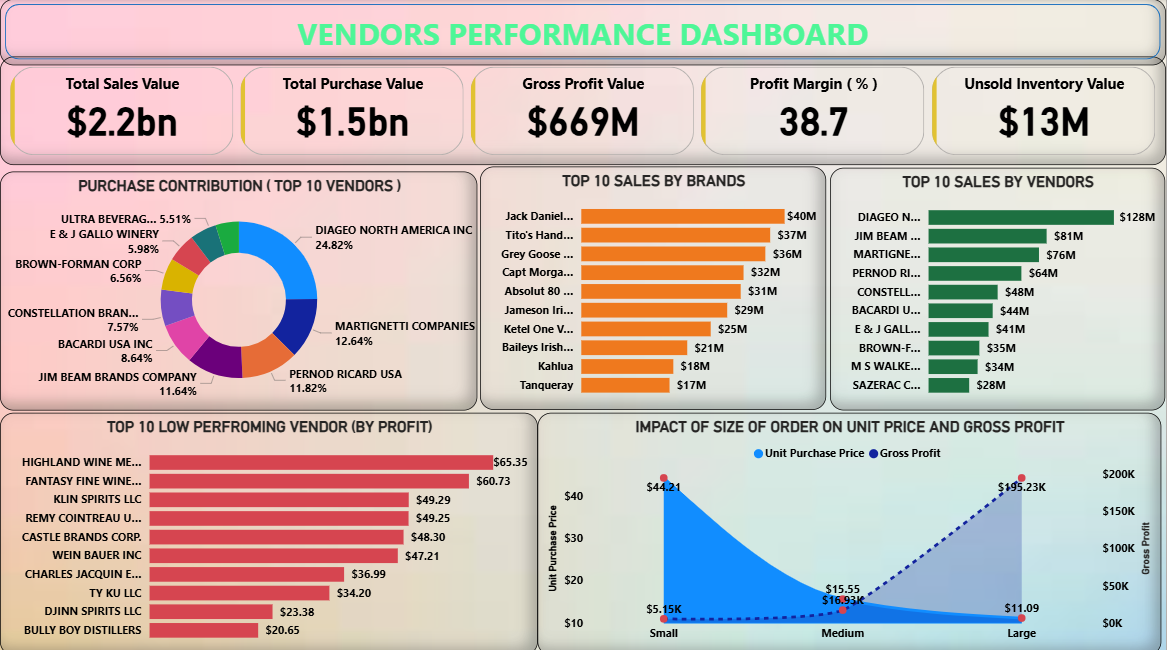

The page's visual inventory and layout, read from the dashboard file:
{"tool":"powerbi","page":{"name":"Page 1","canvas":[1280,720],"ordinal":0},"visuals":[{"type":"cardVisual","fields":{"Data":["Sum(vendors_sales_summary.TotalSalesDollars)","Sum(vendors_sales_summary.TotalPurchaseDollars)","Sum(vendors_sales_summary.GrossProfit)","Avg(vendors_sales_summary.ProfitMargin)","Sum(vendors_sales_summary.UnsoldInventoryValue)"]},"box":[0,63.1,1280.3,119.4],"z":0},{"type":"donutChart","title":"PURCHASE CONTRIBUTION  ( TOP 10 VENDORS )","fields":{"Y":["Sum(PurchaseContribution.PurchaseContribution)"],"Category":["PurchaseContribution.VendorName"]},"box":[0,182.5,524.2,269],"z":1000},{"type":"barChart","title":"TOP 10 LOW PERFROMING VENDOR (BY PROFIT)","fields":{"Category":["Low_Performing_Vendors.VendorName"],"Y":["Sum(Low_Performing_Vendors.ProfitMargin)"]},"box":[0,454.2,590.1,266.2],"z":2000},{"type":"barChart","title":"TOP 10 SALES BY VENDORS","fields":{"Category":["vendors_sales_summary.VendorName"],"Y":["Sum(vendors_sales_summary.TotalSalesPrice)"]},"box":[911.2,185.2,367.8,266.2],"z":3000},{"type":"barChart","title":"TOP 10 SALES BY BRANDS","fields":{"Category":["Top_Brands.Description"],"Y":["Sum(vendors_sales_summary.TotalSalesDollars)"]},"box":[526.9,183.9,380.1,267.6],"z":4000},{"type":"shape","box":[0,0,1280.3,63.1],"z":5000},{"type":"lineChart","title":"IMPACT OF SIZE OF ORDER ON UNIT PRICE AND GROSS PROFIT","fields":{"Category":["vendors_sales_summary.OrderSize"],"Y2":["Avg(vendors_sales_summary.GrossProfit)"],"Y":["Avg(vendors_sales_summary.UnitPurchasePrice)"]},"box":[590.1,454.2,684.7,266.2],"z":6000}]}

Visuals, with their boxes in screenshot pixels (x1, y1, x2, y2), scaled from the page's 1280x720 canvas onto the 1167x650 screenshot:
cardVisual - Sum(vendors_sales_summary.TotalSalesDollars) x Sum(vendors_sales_summary.TotalPurchaseDollars): <bbox>0, 57, 1166, 165</bbox>
"PURCHASE CONTRIBUTION  ( TOP 10 VENDORS )" donutChart: <bbox>0, 165, 478, 408</bbox>
"TOP 10 LOW PERFROMING VENDOR (BY PROFIT)" barChart: <bbox>0, 410, 538, 649</bbox>
"TOP 10 SALES BY VENDORS" barChart: <bbox>831, 167, 1166, 408</bbox>
"TOP 10 SALES BY BRANDS" barChart: <bbox>480, 166, 827, 408</bbox>
shape: <bbox>0, 0, 1166, 57</bbox>
"IMPACT OF SIZE OF ORDER ON UNIT PRICE AND GROSS PROFIT" lineChart: <bbox>538, 410, 1162, 649</bbox>
